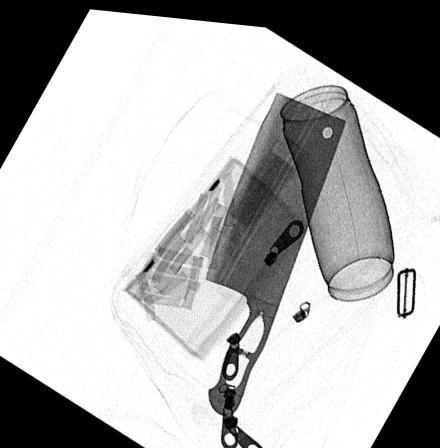Knife: (205, 85, 347, 411)
